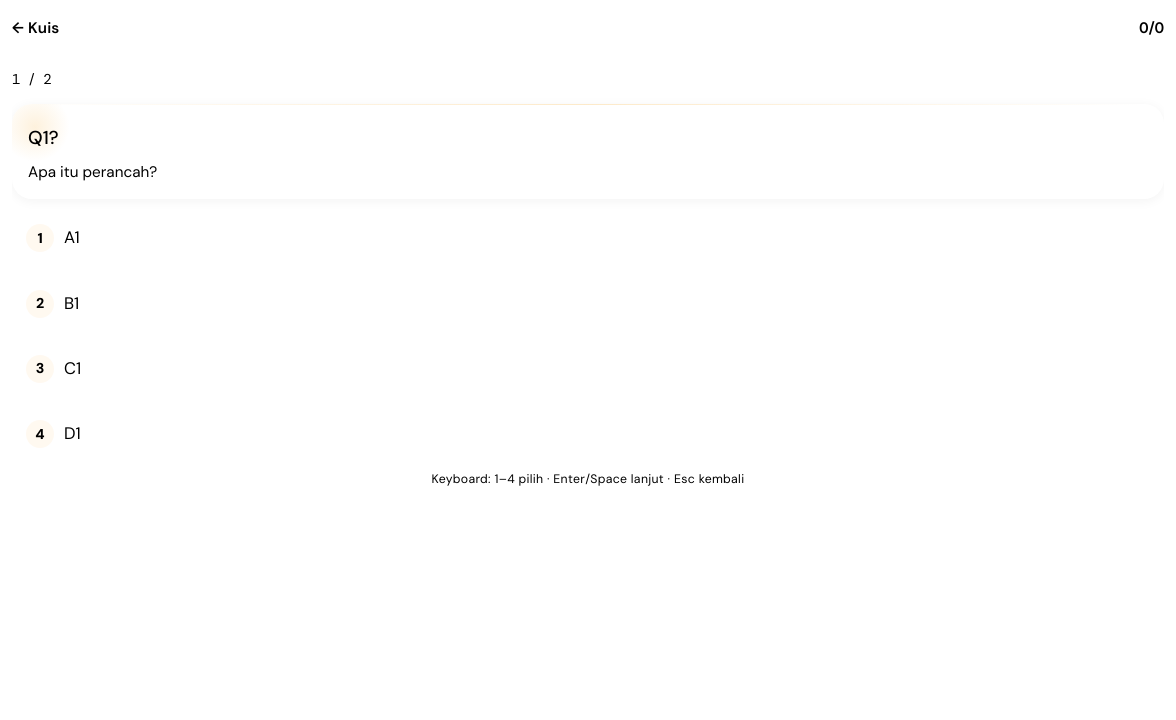
Scenario: QuizShell › multi-question flow › shows counter correctly on second question
Click the text "A1".
click(72, 237)  # box [64,226,80,248]
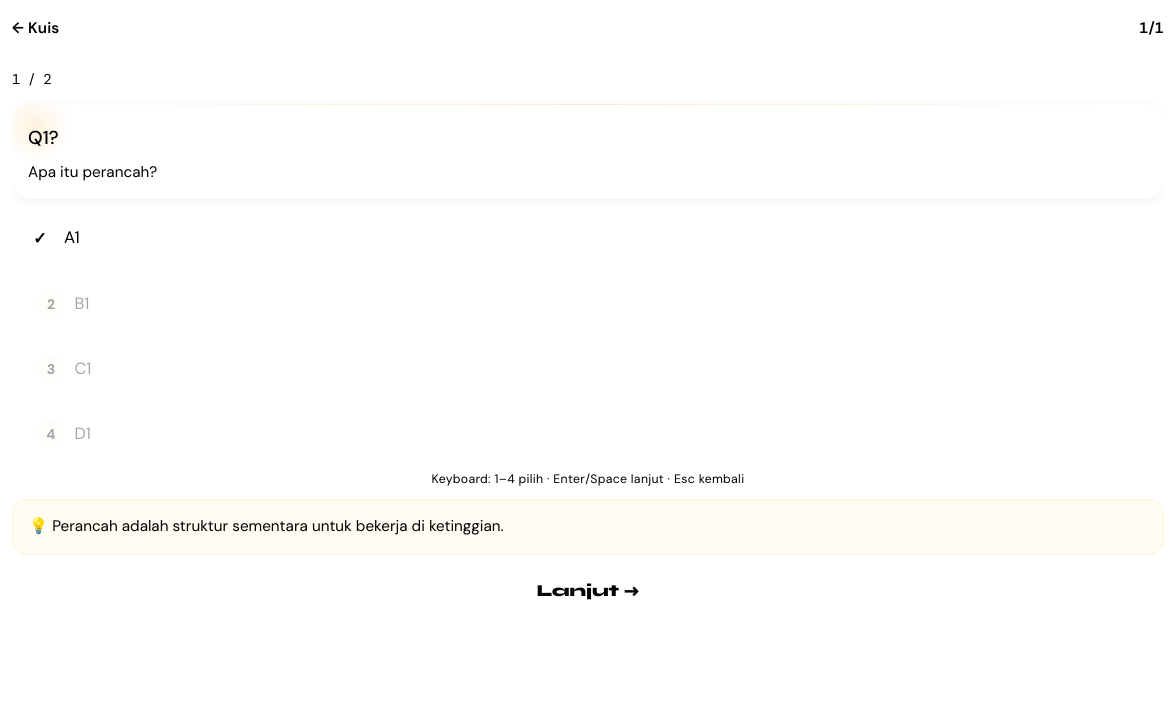
Click the button "Lanjut →".
click(588, 591)  # box [12,565,1164,617]
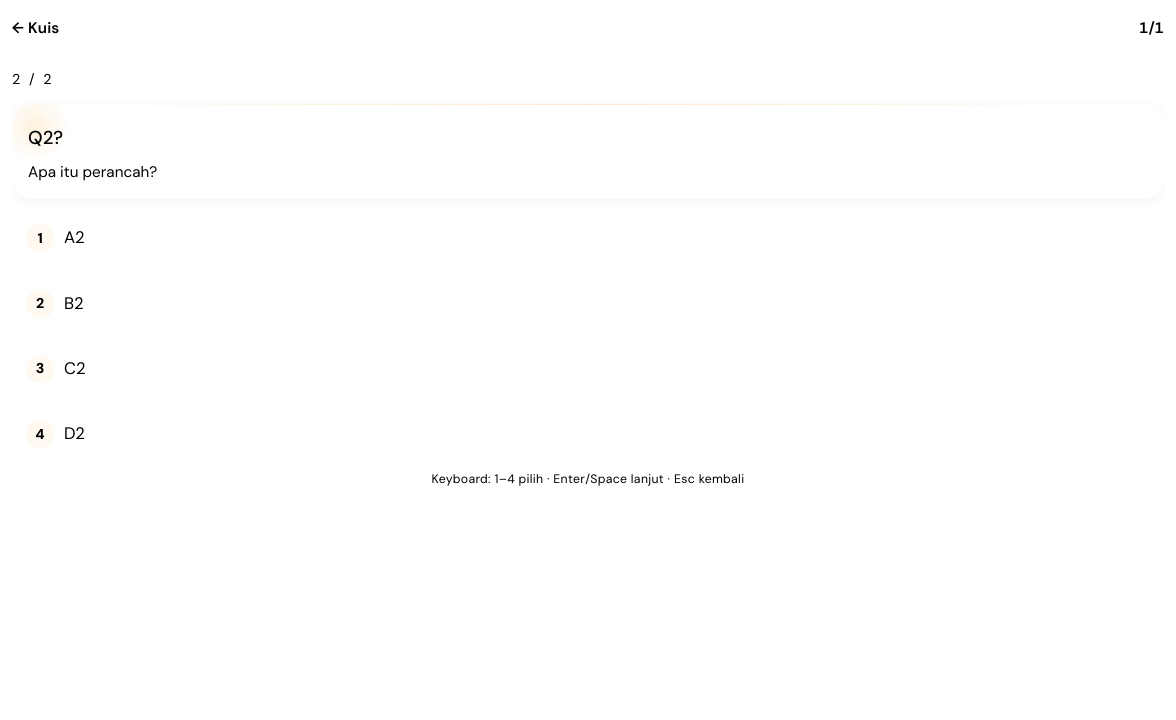
Check: the text "2 / 2" is shown, box [12,69,52,90]
